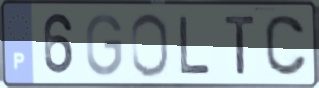6: (41, 11, 76, 80)
C: (262, 12, 310, 78)
G: (84, 11, 125, 79)
L: (177, 14, 214, 77)
O: (128, 11, 171, 80)
T: (223, 14, 258, 77)
